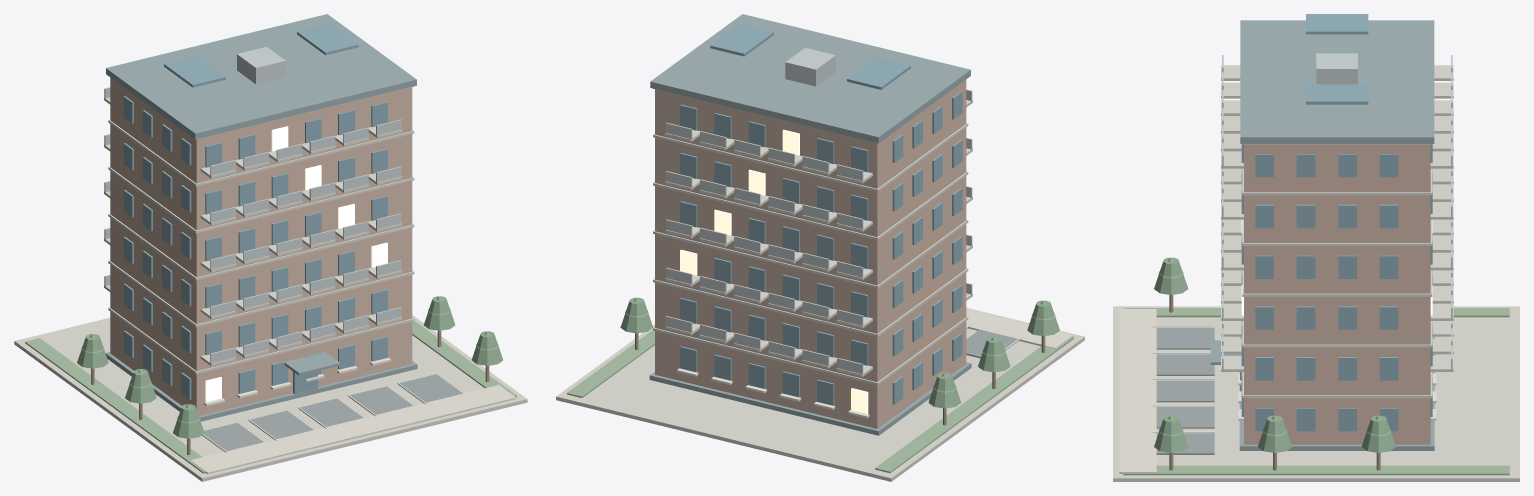
File: remaster_apartment_1.glb
3 views of the same model, side by side, from view 1: azimuth 30°, elevation 25°; view 2: azimuth 150°, elevation 25°; view 3: azimuth 270°, elevation 25° (orthographic). The views are drawn at different scales.
Parts seen in each view (by area): view 1: remaster_apartment_1 brick, remaster_apartment_1 stone, remaster_apartment_1 roof, remaster_apartment_1 glass, remaster_apartment_1 metal, remaster_apartment_1 cream, remaster_apartment_1 asphalt, remaster_apartment_1 green, remaster_apartment_1 leaf, remaster_apartment_1 warm, remaster_apartment_1 white; view 2: remaster_apartment_1 brick, remaster_apartment_1 stone, remaster_apartment_1 roof, remaster_apartment_1 glass, remaster_apartment_1 metal, remaster_apartment_1 green, remaster_apartment_1 leaf, remaster_apartment_1 warm, remaster_apartment_1 cream, remaster_apartment_1 white, remaster_apartment_1 asphalt; view 3: remaster_apartment_1 brick, remaster_apartment_1 stone, remaster_apartment_1 roof, remaster_apartment_1 glass, remaster_apartment_1 cream, remaster_apartment_1 asphalt, remaster_apartment_1 green, remaster_apartment_1 leaf, remaster_apartment_1 metal, remaster_apartment_1 white.
Boxes of the visible parts, x1,y1,x2,y2 form: remaster_apartment_1 brick: (110, 77, 412, 415); remaster_apartment_1 stone: (14, 86, 527, 481); remaster_apartment_1 roof: (105, 14, 417, 421); remaster_apartment_1 glass: (123, 23, 387, 399); remaster_apartment_1 metal: (104, 46, 401, 363); remaster_apartment_1 cream: (190, 385, 516, 474); remaster_apartment_1 asphalt: (202, 374, 462, 451); remaster_apartment_1 green: (25, 321, 516, 473); remaster_apartment_1 leaf: (77, 296, 502, 438); remaster_apartment_1 warm: (205, 126, 387, 401); remaster_apartment_1 white: (202, 357, 426, 452); remaster_apartment_1 brick: (655, 80, 966, 428); remaster_apartment_1 stone: (556, 88, 1084, 481); remaster_apartment_1 roof: (649, 14, 971, 435); remaster_apartment_1 glass: (680, 24, 962, 405); remaster_apartment_1 metal: (666, 48, 972, 374); remaster_apartment_1 green: (567, 330, 1073, 473); remaster_apartment_1 leaf: (620, 297, 1059, 408); remaster_apartment_1 warm: (680, 129, 868, 413); remaster_apartment_1 cream: (966, 309, 1073, 348); remaster_apartment_1 white: (677, 324, 1022, 418); remaster_apartment_1 asphalt: (966, 328, 1018, 358); remaster_apartment_1 brick: (1244, 144, 1430, 444); remaster_apartment_1 stone: (1113, 65, 1519, 481); remaster_apartment_1 roof: (1210, 20, 1434, 450); remaster_apartment_1 glass: (1240, 14, 1432, 431); remaster_apartment_1 cream: (1119, 309, 1156, 473); remaster_apartment_1 asphalt: (1156, 328, 1214, 454); remaster_apartment_1 green: (1123, 308, 1509, 475); remaster_apartment_1 leaf: (1154, 257, 1395, 452); remaster_apartment_1 metal: (1222, 53, 1452, 370); remaster_apartment_1 white: (1152, 326, 1436, 432).
Bounding box in the file's own units: 19.65 × 17.98 × 19.6.
